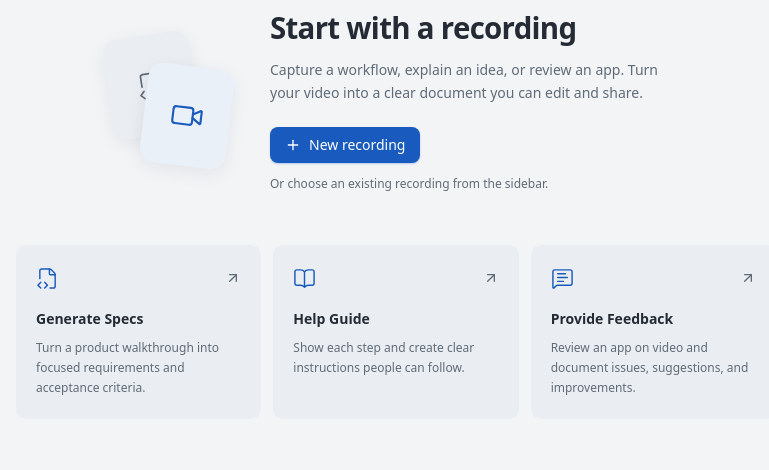
Workspace welcome › stays on welcome when saving the prompt selection fails
Click the button "Generate Specs".
click(139, 332)  # box [16, 244, 261, 420]
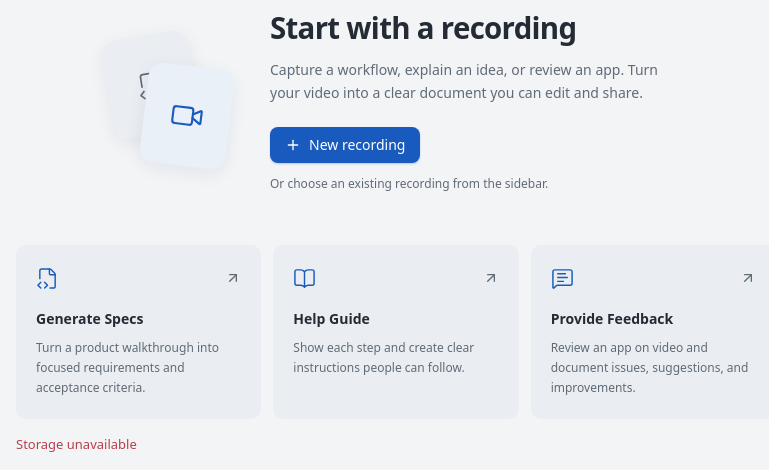
Result: the message reads "Storage unavailable" at [16, 436, 137, 454]
